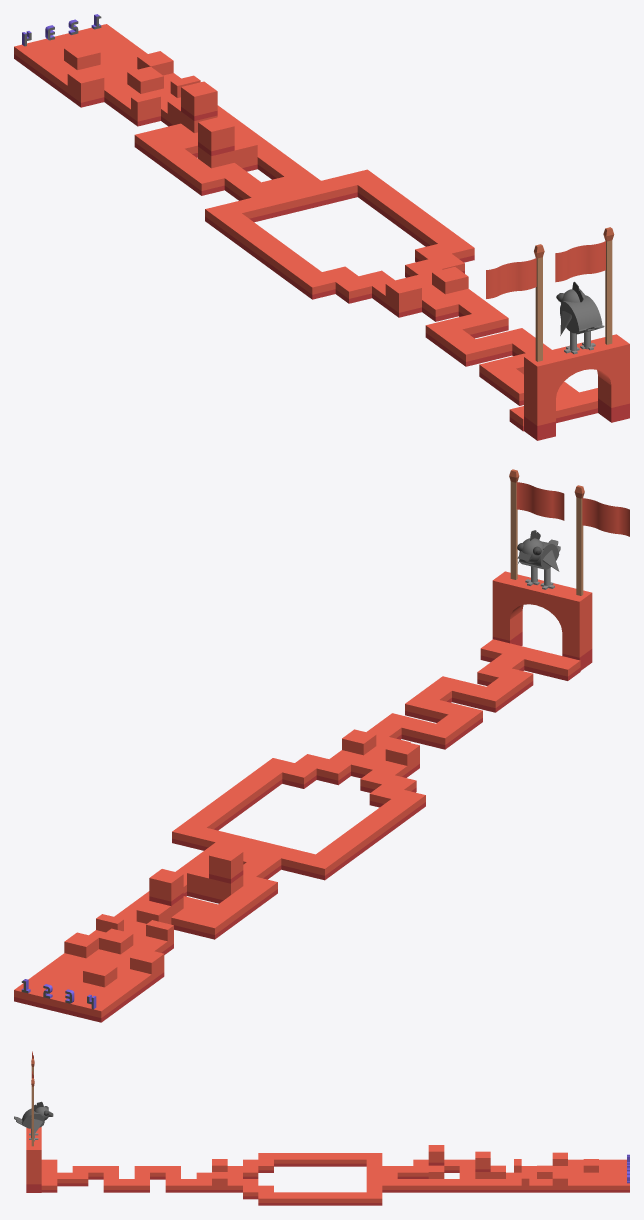
The model's file is race-track.glb.
3 renders of one model, top to bottom at view 1: azimuth 30°, elevation 25°; view 2: azimuth 150°, elevation 25°; view 3: azimuth 270°, elevation 25°, orthographic. The views are drawn at different scales.
Parts seen in each view (by area): view 1: mergedBlocks(Clone); view 2: mergedBlocks(Clone); view 3: mergedBlocks(Clone).
Boxes of the visible parts, bbox=[...] form: mergedBlocks(Clone): bbox=[14, 14, 629, 440]; mergedBlocks(Clone): bbox=[14, 469, 629, 1022]; mergedBlocks(Clone): bbox=[14, 1051, 629, 1205].
Size of the model in its own units: 7.93 by 7.8 by 39.79.
